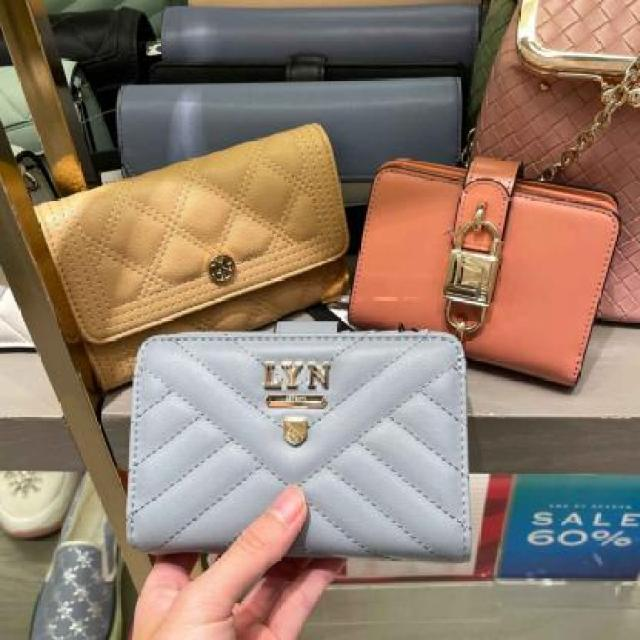Bag: (102, 312, 506, 576), (335, 109, 640, 385), (17, 115, 366, 352)
